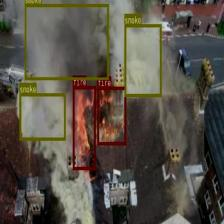fire: (72, 85, 96, 169), (97, 87, 126, 144)
smoke: (24, 4, 108, 80), (124, 23, 162, 96), (19, 93, 65, 140)
